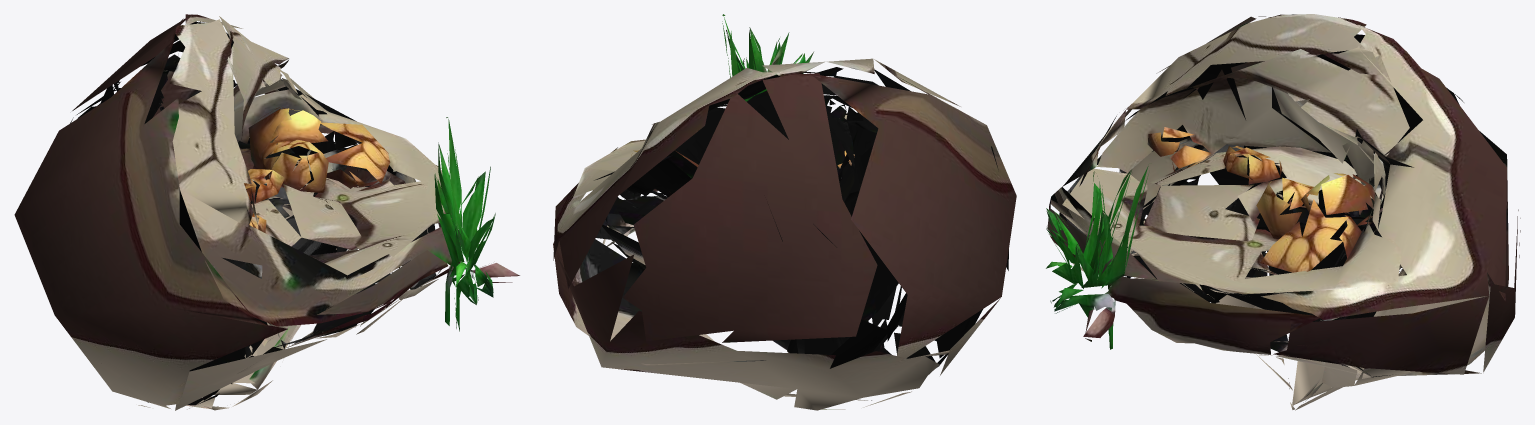
Rendered from kiyi_kaya.glb.
3 views of the same model, side by side, from view 1: azimuth 30°, elevation 25°; view 2: azimuth 150°, elevation 25°; view 3: azimuth 270°, elevation 25° (orthographic). The views are drawn at different scales.
Visible parts, largest first — view 1: geometry_0; view 2: geometry_0; view 3: geometry_0.
Part boxes in pixels (x1,y1,x2,y2): geometry_0: (14, 14, 519, 410); geometry_0: (553, 14, 1016, 410); geometry_0: (1046, 14, 1520, 410).
Size of the model in its own units: 0.9896 by 0.8628 by 1.
1 material, 1 textured.
